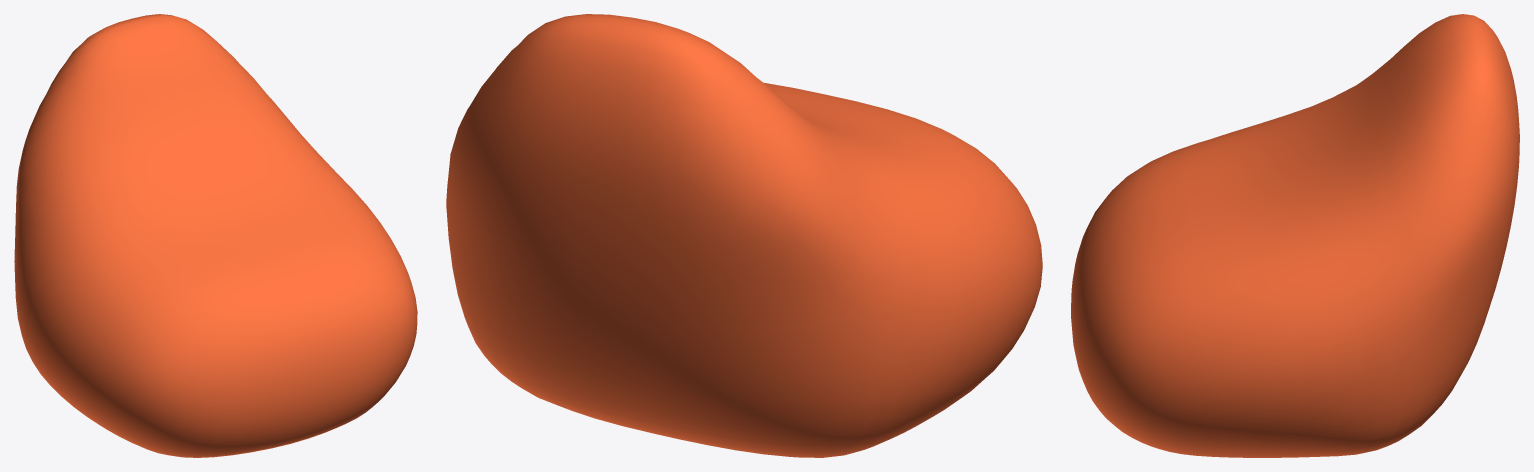
File: Store_13_Pouf_4.glb
3 renders of one model, left to right at view 1: azimuth 30°, elevation 25°; view 2: azimuth 150°, elevation 25°; view 3: azimuth 270°, elevation 25°, orthographic. The views are drawn at different scales.
Visible parts, largest first — view 1: Store_13_Pouf_4; view 2: Store_13_Pouf_4; view 3: Store_13_Pouf_4.
Boxes of the visible parts, x1,y1,x2,y2 form: Store_13_Pouf_4: [14, 14, 417, 457]; Store_13_Pouf_4: [446, 14, 1042, 457]; Store_13_Pouf_4: [1071, 14, 1519, 457].
Size of the model in its own units: 1.21 by 1.07 by 1.17.
1 material, 1 textured.
